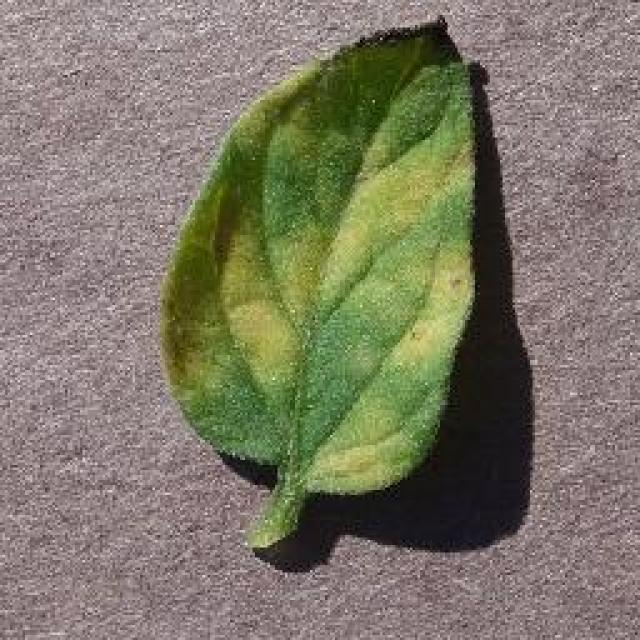Tomato mold leaf: (159, 18, 479, 494)
